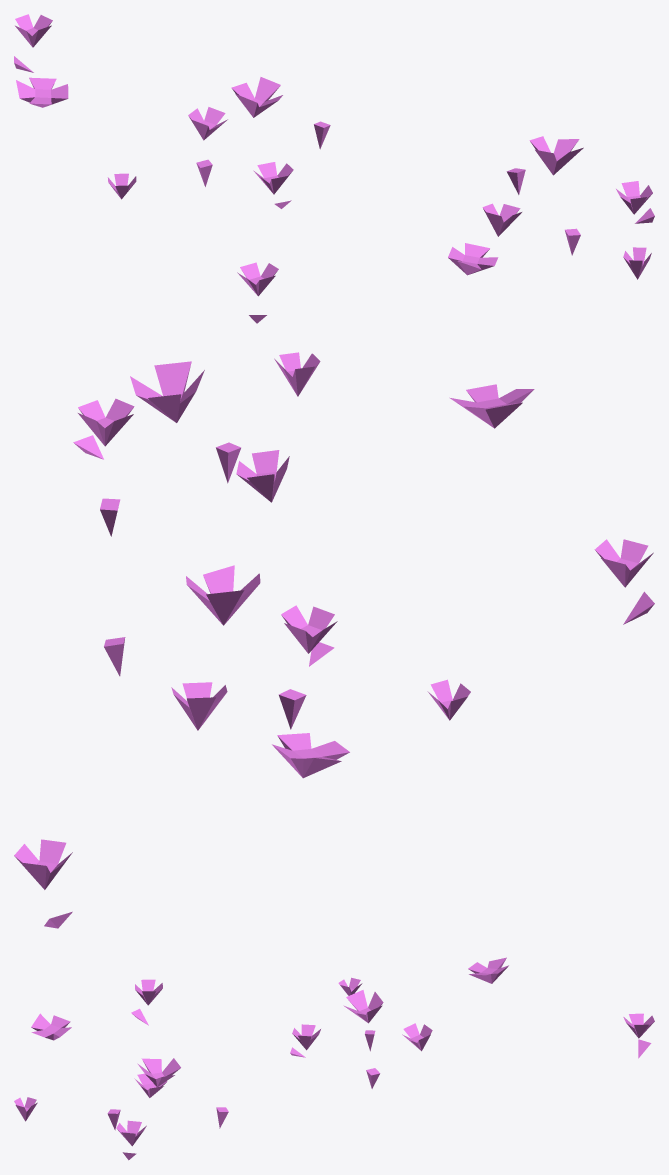
Rendered from zone3-c3.glb.
The picture shows the model from 3 angles, top to bottom: view 1: azimuth 30°, elevation 25°; view 2: azimuth 150°, elevation 25°; view 3: azimuth 270°, elevation 25°; orthographic projection. The views are drawn at different scales.
Parts seen in each view (by area): view 1: flower-daisy-floating-group-a.001; view 2: flower-daisy-floating-group-a.001; view 3: flower-daisy-floating-group-a.001.
Boxes of the visible parts, x1=… form: flower-daisy-floating-group-a.001: x1=14, y1=14, x2=654, y2=323; flower-daisy-floating-group-a.001: x1=14, y1=352, x2=654, y2=928; flower-daisy-floating-group-a.001: x1=14, y1=957, x2=654, y2=1160.
Bounding box in the file's own units: 75.83 × 17.92 × 131.
